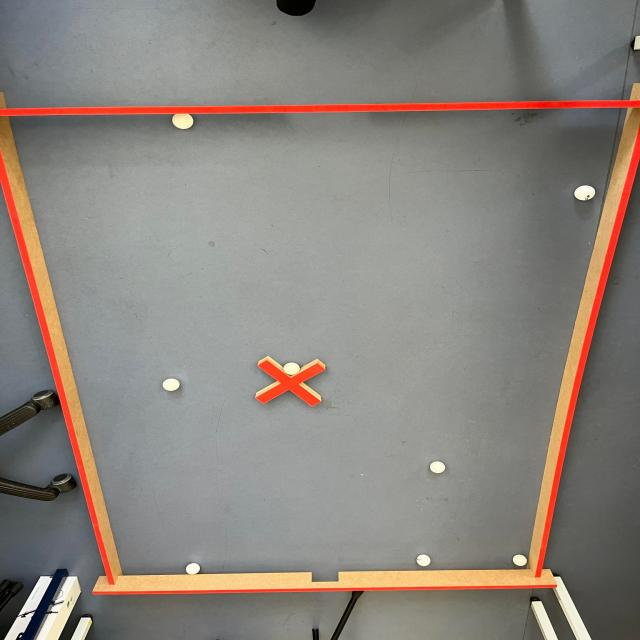white: (171, 112, 198, 132), (573, 180, 598, 200), (158, 377, 186, 392), (282, 358, 302, 376), (428, 459, 448, 475), (414, 554, 434, 566), (186, 562, 202, 575), (512, 555, 528, 567)
